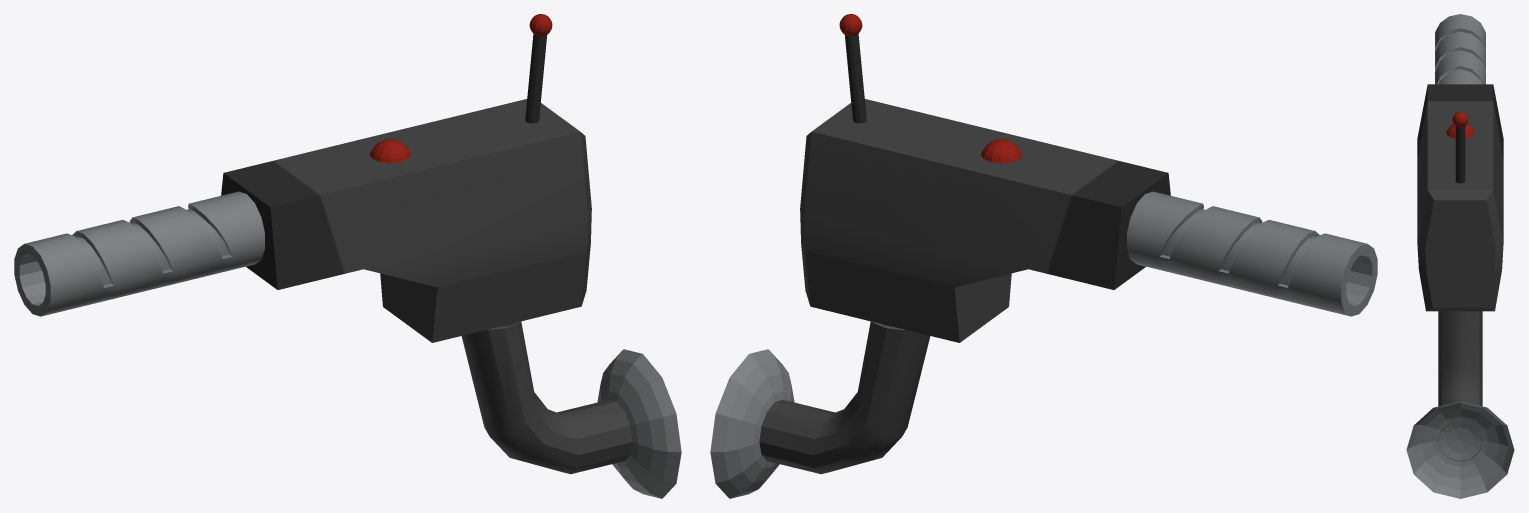
File: Wall_Turret_2.fbx
3 renders of one model, left to right at view 1: azimuth 30°, elevation 25°; view 2: azimuth 150°, elevation 25°; view 3: azimuth 270°, elevation 25°, orthographic. The views are drawn at different scales.
Visible parts, largest first — view 1: pCube1, pCylinder3, pCylinder1, pSphere1, pSphere4, pSphere2; view 2: pCube1, pCylinder3, pCylinder1, pSphere1, pSphere4, pSphere2; view 3: pCube1, pSphere1, pCylinder1, pCylinder3, pSphere4, pSphere2.
Part boxes in pixels (box(x1,y1,x2,y2)): pCube1: box(221, 99, 591, 342); pCylinder3: box(14, 191, 264, 316); pCylinder1: box(461, 321, 632, 474); pSphere1: box(597, 349, 681, 498); pSphere4: box(525, 14, 552, 123); pSphere2: box(369, 139, 411, 163); pCube1: box(800, 99, 1170, 342); pCylinder3: box(1127, 191, 1377, 316); pCylinder1: box(759, 321, 930, 474); pSphere1: box(710, 349, 794, 498); pSphere4: box(839, 14, 866, 123); pSphere2: box(980, 139, 1022, 163); pCube1: box(1417, 84, 1503, 311); pSphere1: box(1406, 401, 1514, 498); pCylinder1: box(1438, 311, 1482, 461); pCylinder3: box(1435, 14, 1485, 84); pSphere4: box(1452, 111, 1468, 183); pSphere2: box(1446, 124, 1474, 138).
Size of the model in its own units: 0.6232 by 0.4918 by 0.1369.
